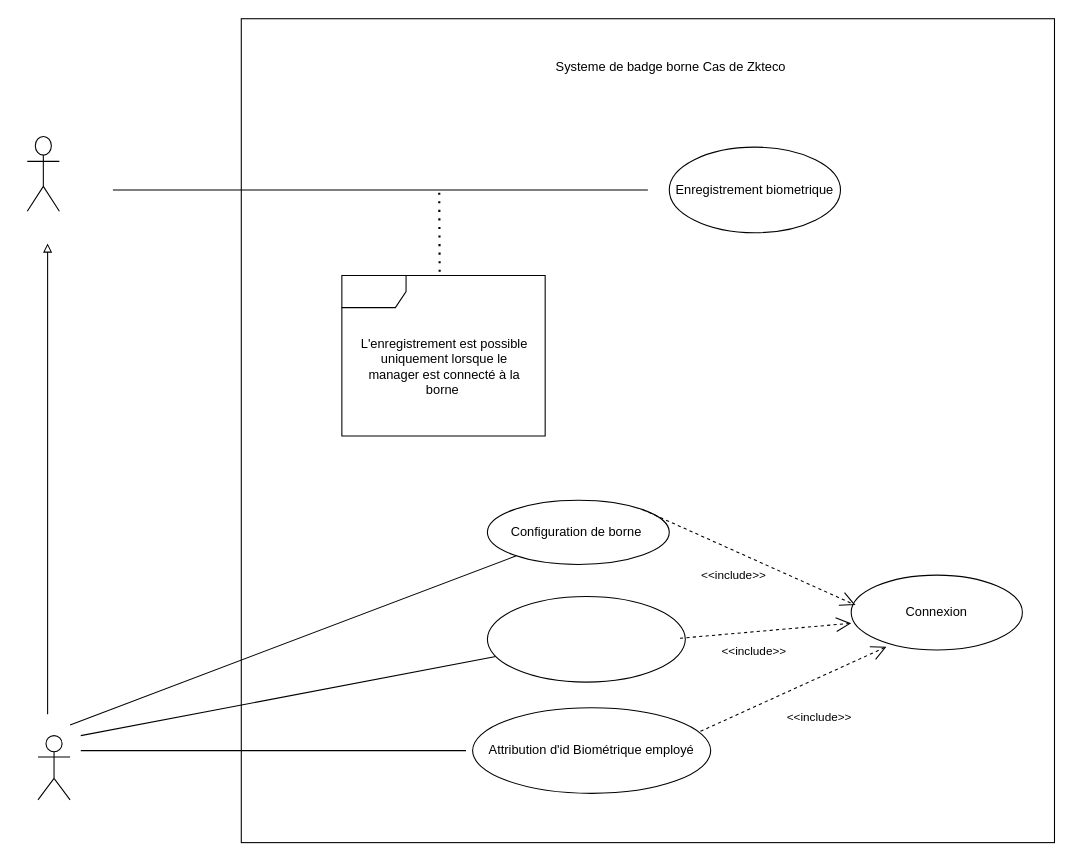
Image size: 1073x861. Some labels were removed from this diagram. The shapes that lost their labels are listed below. From the top down, each one's centre as x and y in pixels, then its label:
(42,173): Employe
(585,638): Suppression d'employé
(53,767): Manager
